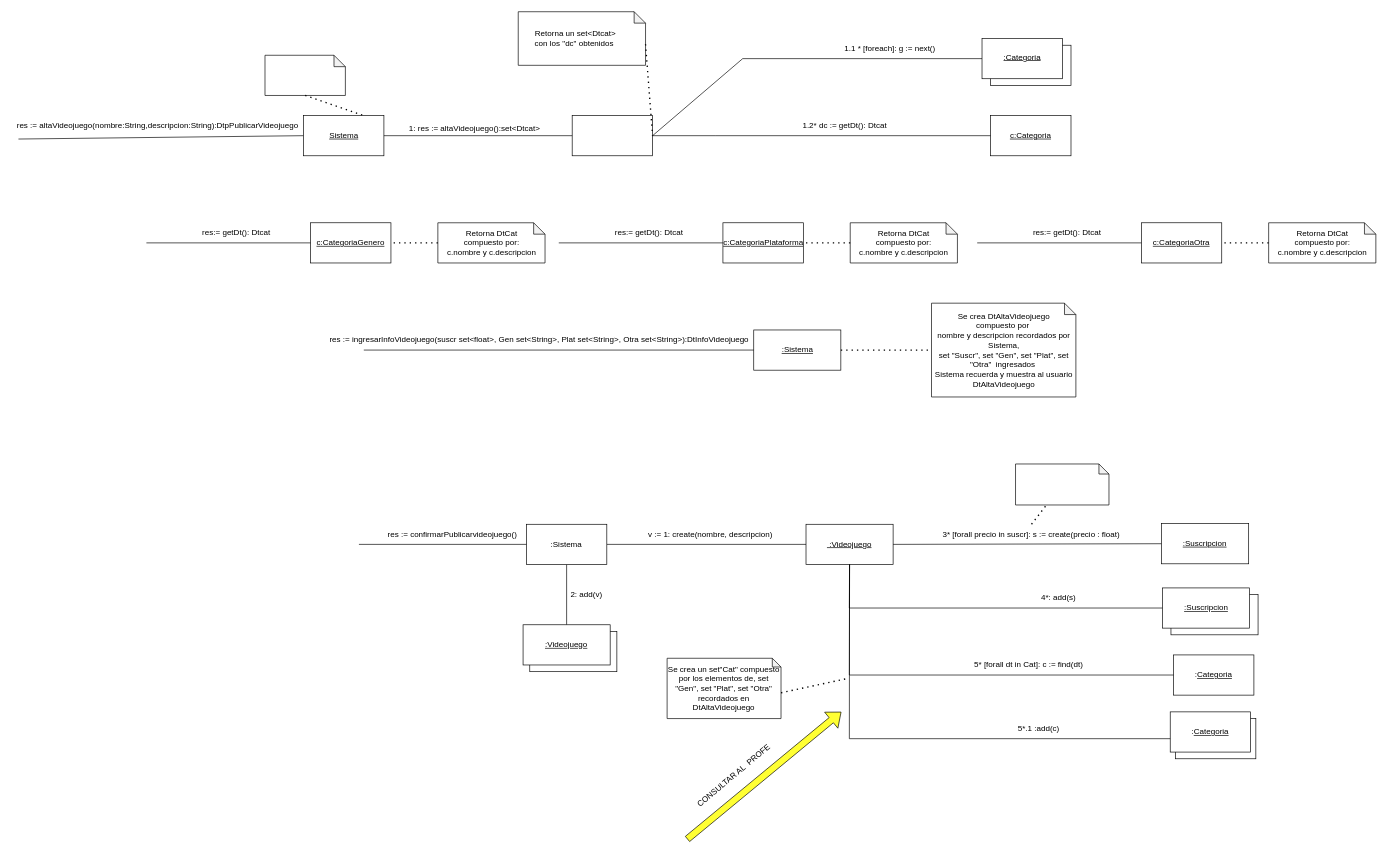
The diagram is 1388 pixels wide and 854 high, and some of its shapes have lost their labels. Each missing label, with the centre of its shape:
Sistema recuerda nombre y descripcion: point 304,75
Suscr es recordado por el sistema dentro de DtAltaVideojuego: point 1062,484
u:Usuario: point 612,135
